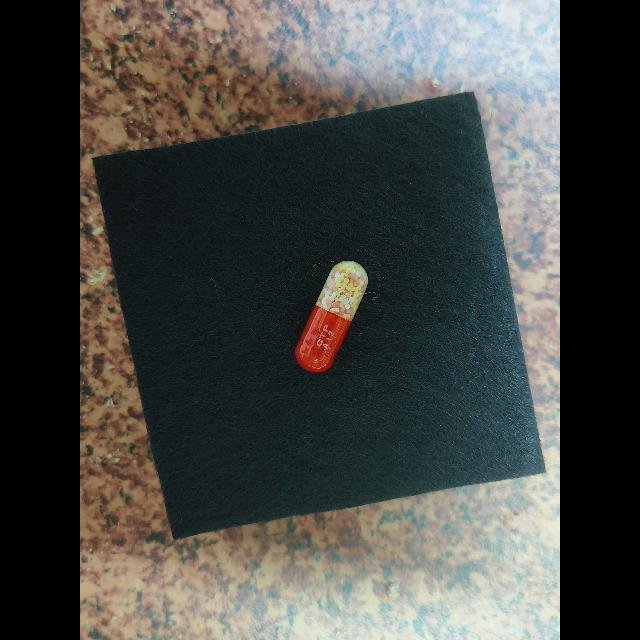Intact Capsule: (295, 261, 368, 373)
